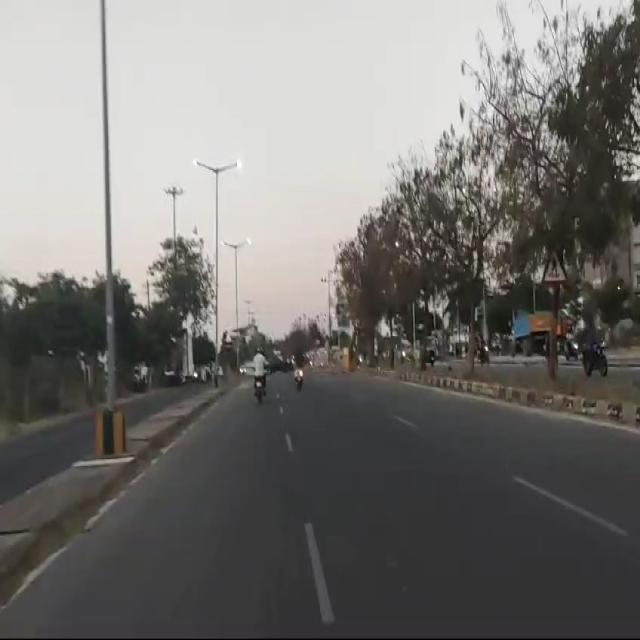bien_cam: (540, 244, 568, 286)
